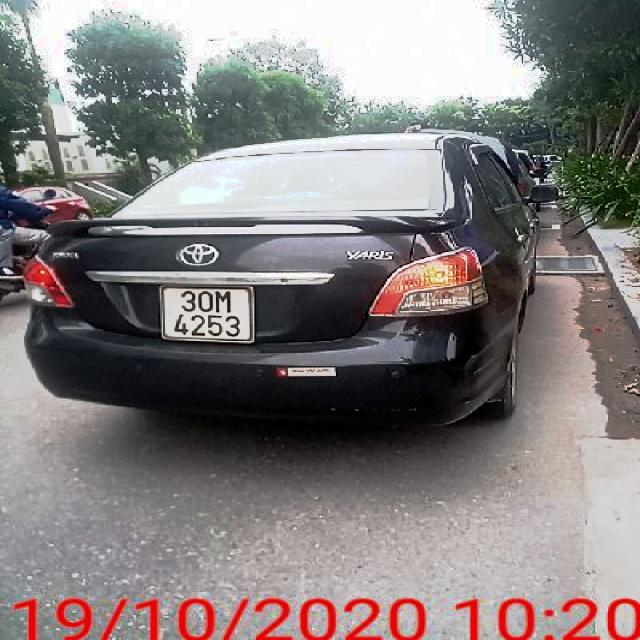license_plate: (164, 286, 250, 340)
